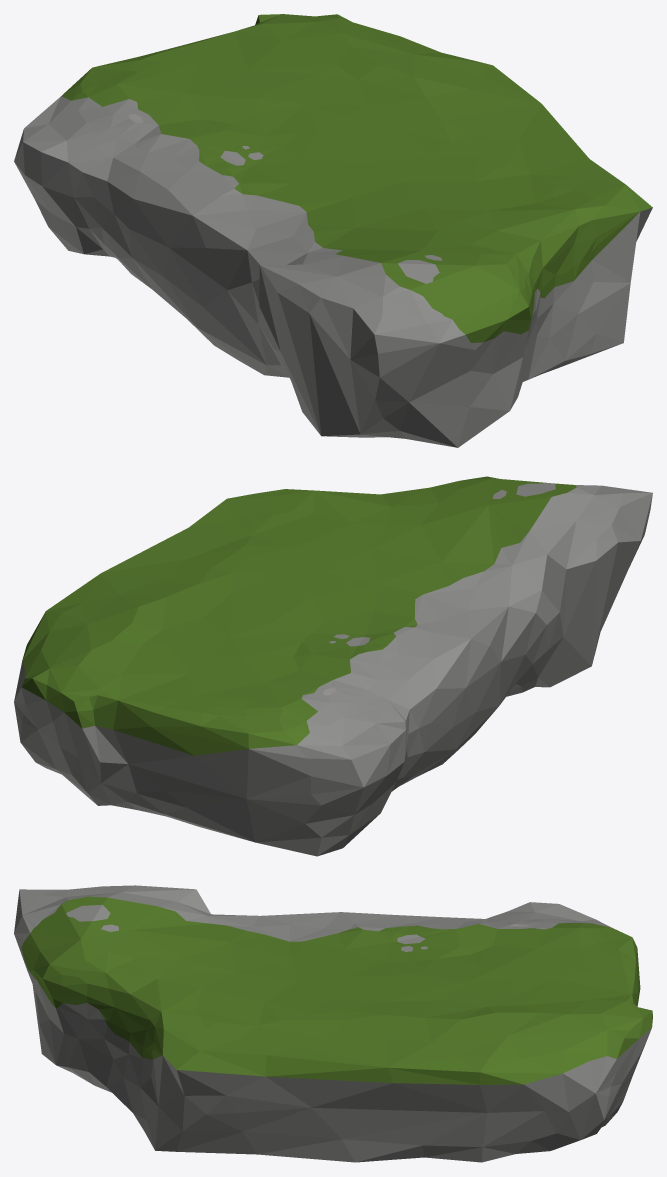
The model's file is Cavern_FloorGrass_Border_Edge-01.fbx.
The picture shows the model from 3 angles, top to bottom: view 1: azimuth 30°, elevation 25°; view 2: azimuth 150°, elevation 25°; view 3: azimuth 270°, elevation 25°; orthographic projection. The views are drawn at different scales.
Parts seen in each view (by area): view 1: Cavern_FloorGrass_Border_Edge-01; view 2: Cavern_FloorGrass_Border_Edge-01; view 3: Cavern_FloorGrass_Border_Edge-01.
Boxes of the visible parts, x1,y1,x2,y2 form: Cavern_FloorGrass_Border_Edge-01: (14,14,652,447); Cavern_FloorGrass_Border_Edge-01: (14,476,652,856); Cavern_FloorGrass_Border_Edge-01: (14,885,652,1162).
Size of the model in its own units: 1348 by 568 by 2079.
Materials: 1 (1 with a texture image).
